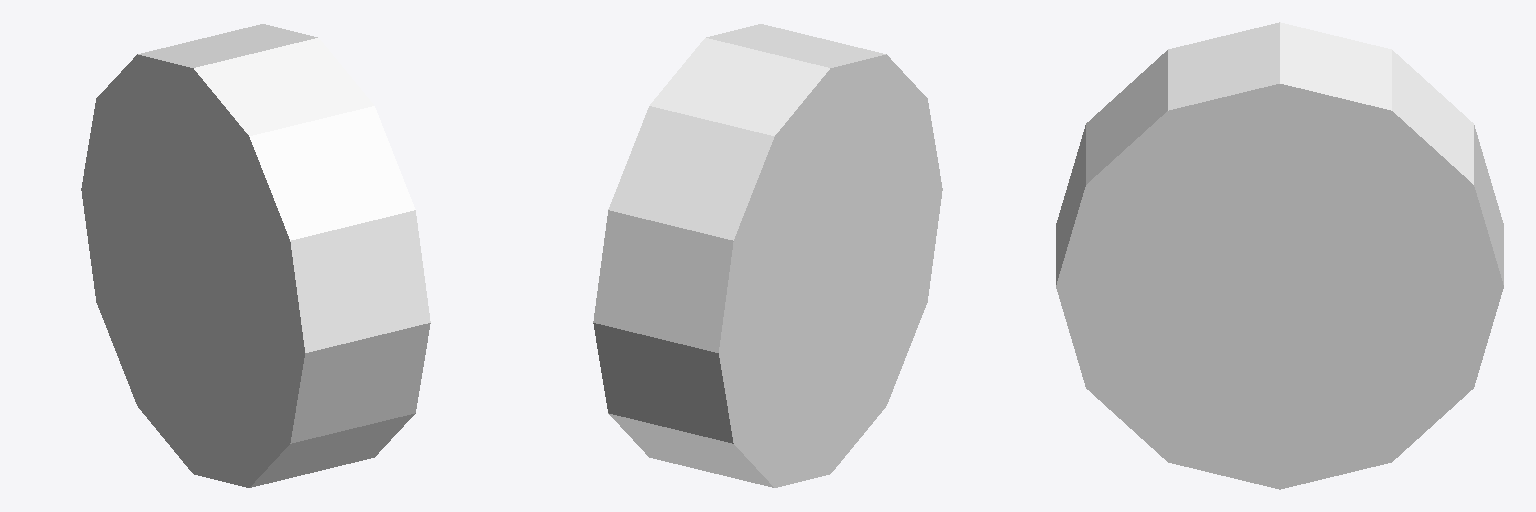
File: DonutVanLlanta02.obj
3 views of the same model, side by side, from view 1: azimuth 30°, elevation 25°; view 2: azimuth 150°, elevation 25°; view 3: azimuth 270°, elevation 25° (orthographic).
Visible parts, largest first — view 1: Llanta01; view 2: Llanta01; view 3: Llanta01.
Part boxes in pixels (x1,y1,x2,y2): Llanta01: (81,24,430,487); Llanta01: (593,24,942,487); Llanta01: (1056,22,1503,489).
Bounding box in the file's own units: 0.2445 × 0.7564 × 0.7564.